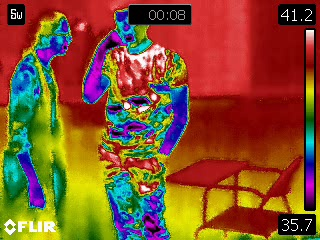human: (82, 7, 192, 240), (3, 10, 77, 221)
